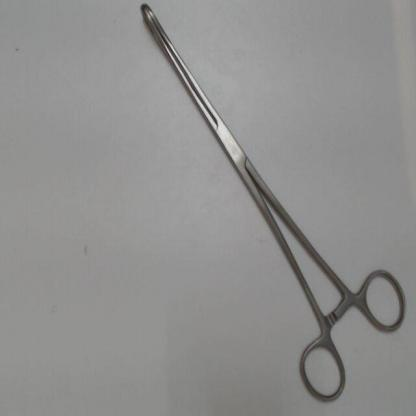Sponge Forceps: (128, 1, 413, 409)
